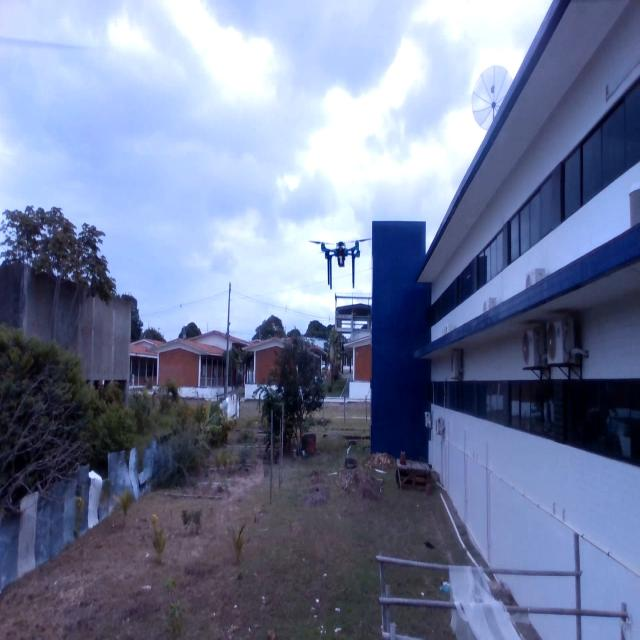-uav-: (304, 227, 373, 290)
